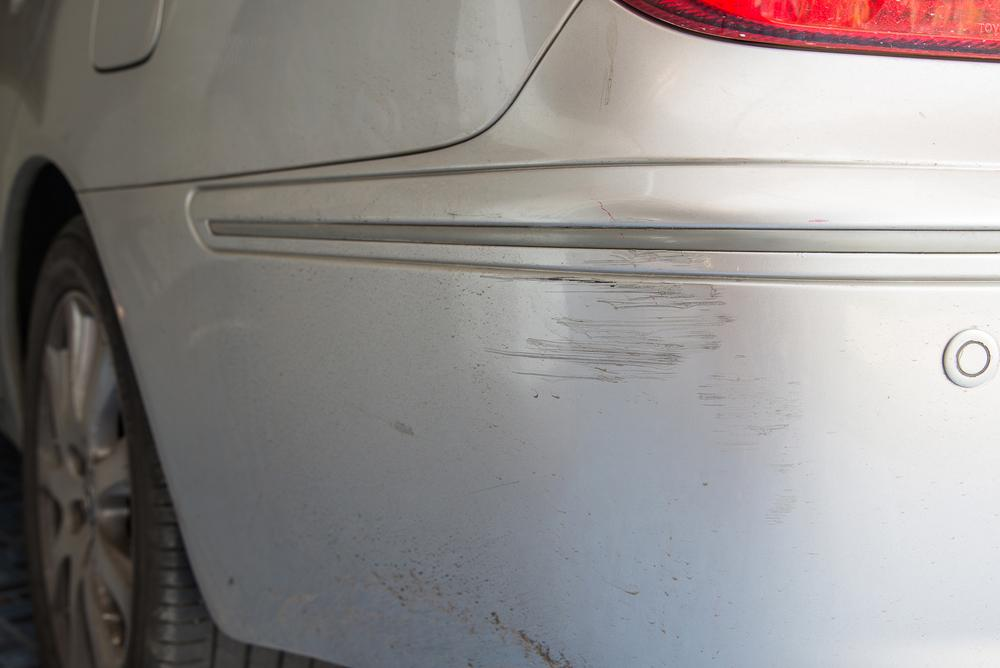scratch: (477, 231, 810, 520)
